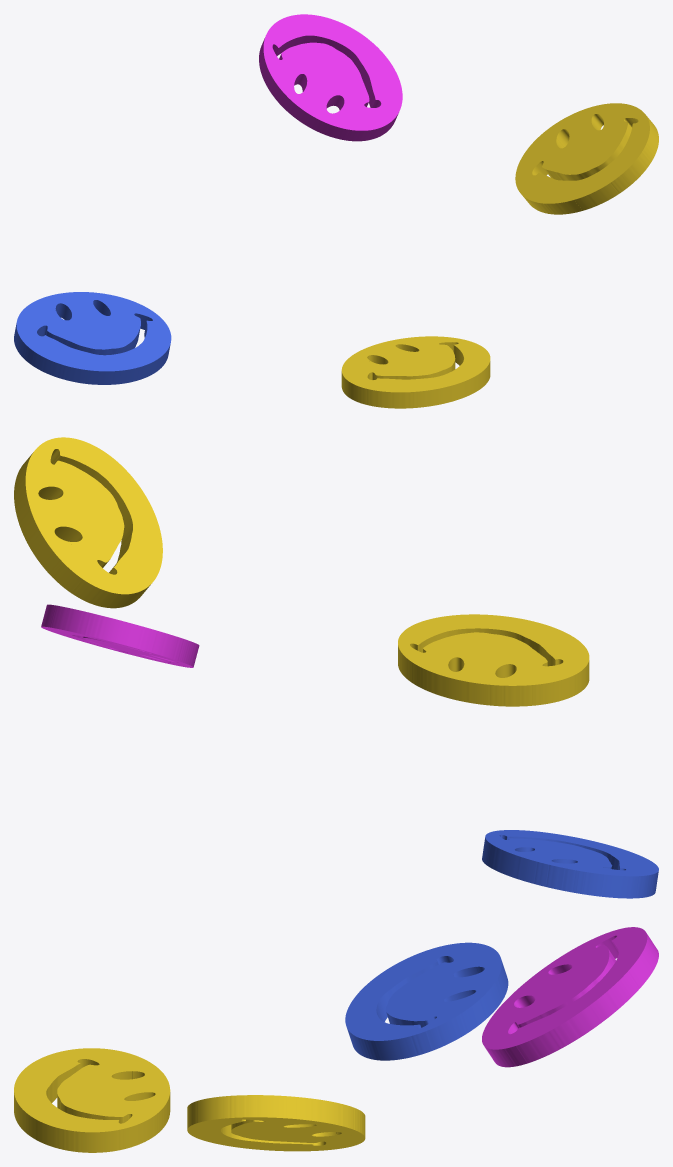
The model's file is smileys3D.fbx.
3 renders of one model, top to bottom at view 1: azimuth 30°, elevation 25°; view 2: azimuth 150°, elevation 25°; view 3: azimuth 270°, elevation 25°, orthographic. The views are drawn at different scales.
Parts seen in each view (by area): view 1: Curve.003, Curve.002, Curve.001, Curve; view 2: Curve.001, Curve, Curve.002, Curve.003; view 3: Curve, Curve.002, Curve.003, Curve.001.
Part boxes in pixels (x1,y1,x2,y2): Curve.003: [259, 14, 402, 141]; Curve.002: [14, 292, 171, 384]; Curve.001: [515, 103, 658, 214]; Curve: [341, 336, 490, 408]; Curve.001: [14, 437, 162, 608]; Curve: [398, 614, 589, 706]; Curve.002: [482, 830, 658, 898]; Curve.003: [41, 604, 199, 667]; Curve: [14, 1048, 170, 1152]; Curve.002: [345, 942, 508, 1060]; Curve.003: [482, 927, 658, 1067]; Curve.001: [187, 1095, 365, 1151].
Bounding box in the file's own units: 94.68 × 34.84 × 74.97.
